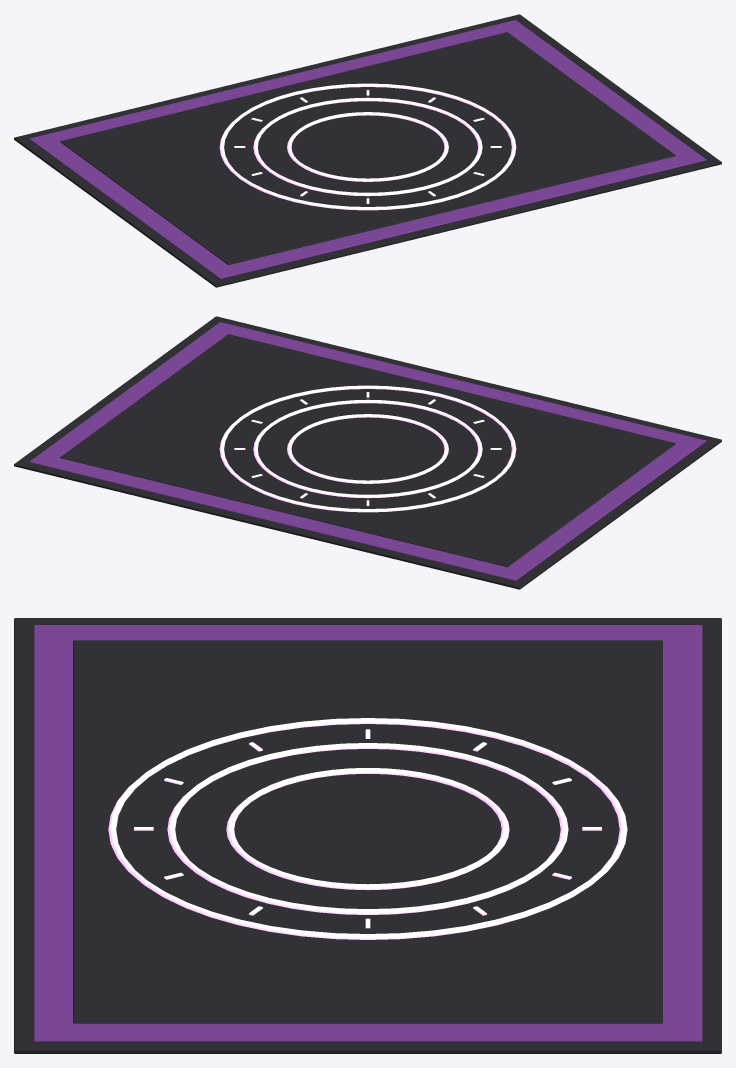
File: rug_runic_circle.glb
The picture shows the model from 3 angles, top to bottom: view 1: azimuth 30°, elevation 25°; view 2: azimuth 150°, elevation 25°; view 3: azimuth 270°, elevation 25°; orthographic projection. The views are drawn at different scales.
Parts seen in each view (by area): view 1: GD_rug_runic_circle__m0, GD_rug_runic_circle__m1, GD_rug_runic_circle__m2; view 2: GD_rug_runic_circle__m0, GD_rug_runic_circle__m1, GD_rug_runic_circle__m2; view 3: GD_rug_runic_circle__m0, GD_rug_runic_circle__m1, GD_rug_runic_circle__m2.
Boxes of the visible parts, bbox=[...] form: GD_rug_runic_circle__m0: bbox=[14, 14, 721, 287]; GD_rug_runic_circle__m1: bbox=[29, 20, 706, 278]; GD_rug_runic_circle__m2: bbox=[219, 83, 516, 210]; GD_rug_runic_circle__m0: bbox=[14, 316, 721, 589]; GD_rug_runic_circle__m1: bbox=[29, 322, 706, 580]; GD_rug_runic_circle__m2: bbox=[219, 385, 516, 512]; GD_rug_runic_circle__m0: bbox=[14, 618, 721, 1053]; GD_rug_runic_circle__m1: bbox=[33, 625, 702, 1041]; GD_rug_runic_circle__m2: bbox=[108, 718, 627, 939].
Bounding box in the file's own units: 2.6 × 0.034 × 1.8.
